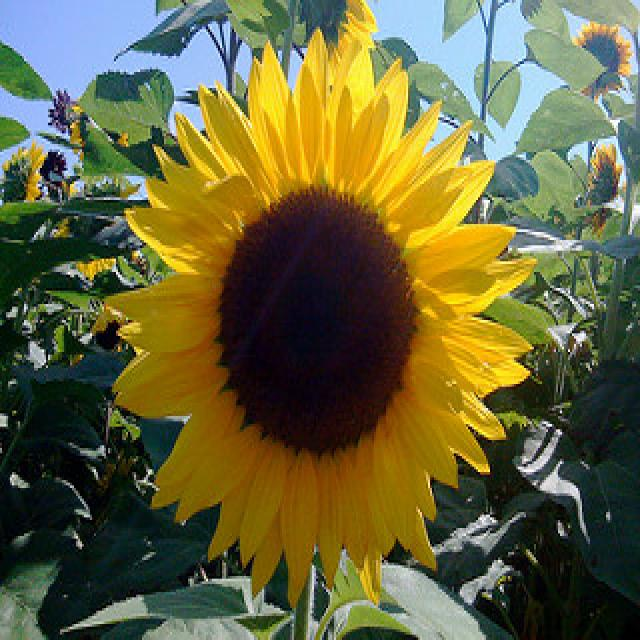sunflower: (114, 35, 529, 602)
